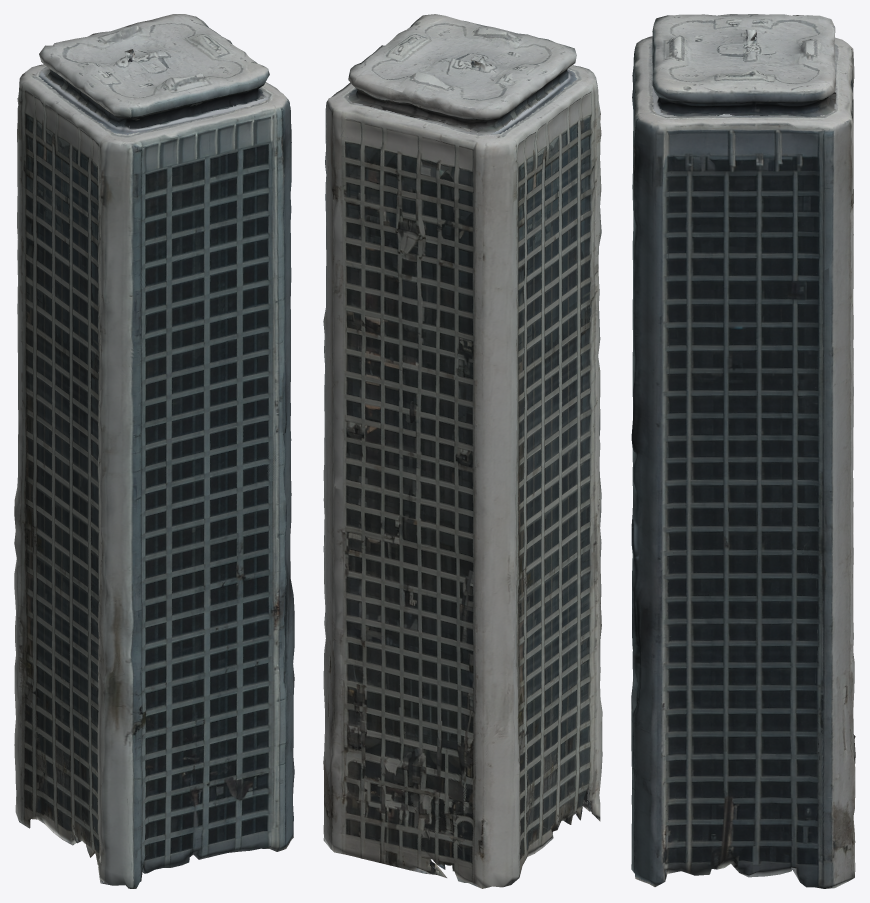
Rendered from Sky_GlassTower.glb.
3 views of the same model, side by side, from view 1: azimuth 30°, elevation 25°; view 2: azimuth 150°, elevation 25°; view 3: azimuth 270°, elevation 25° (orthographic). The views are drawn at different scales.
Parts seen in each view (by area): view 1: texture_mapping; view 2: texture_mapping; view 3: texture_mapping.
Part boxes in pixels (left/top/right/bottom): texture_mapping: left=14, top=14, right=294, bottom=888; texture_mapping: left=323, top=14, right=602, bottom=888; texture_mapping: left=631, top=14, right=855, bottom=888.
Bounding box in the file's own units: 0.2264 × 0.8785 × 0.2231.
Materials: 1 (1 with a texture image).
